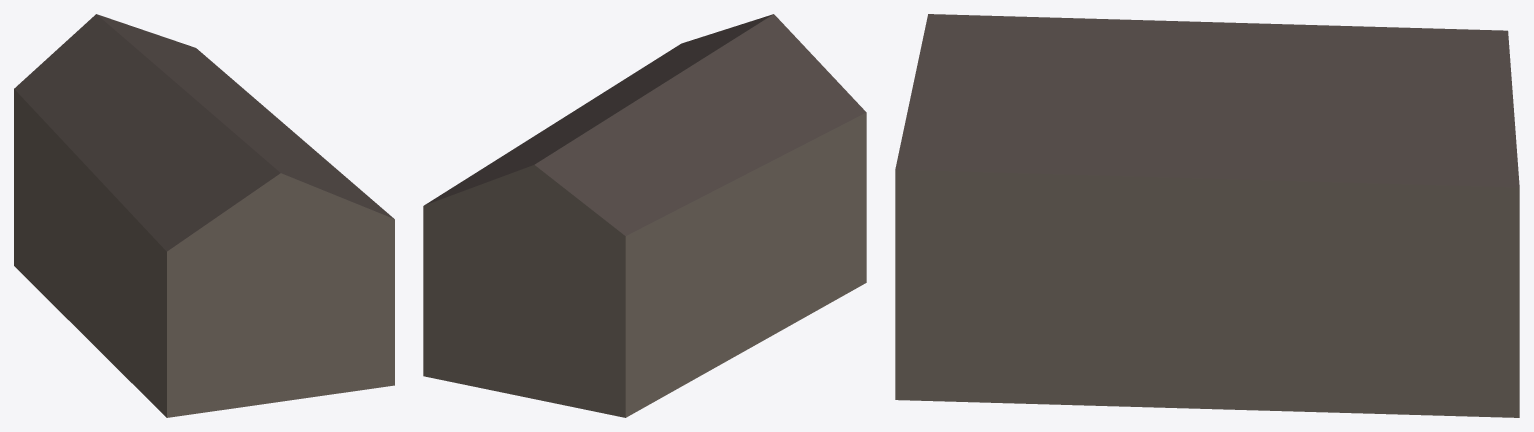
3 views of the same model, side by side, from view 1: azimuth 30°, elevation 25°; view 2: azimuth 150°, elevation 25°; view 3: azimuth 270°, elevation 25° (orthographic). The views are drawn at different scales.
Parts seen in each view (by area): view 1: HP-w1515071159; view 2: HP-w1515071159; view 3: HP-w1515071159.
Part boxes in pixels (left/top/right/bottom): HP-w1515071159: left=14, top=14, right=394, bottom=417; HP-w1515071159: left=423, top=14, right=866, bottom=417; HP-w1515071159: left=895, top=14, right=1519, bottom=417.
Bounding box in the file's own units: 8.72 × 8.25 × 14.74.
